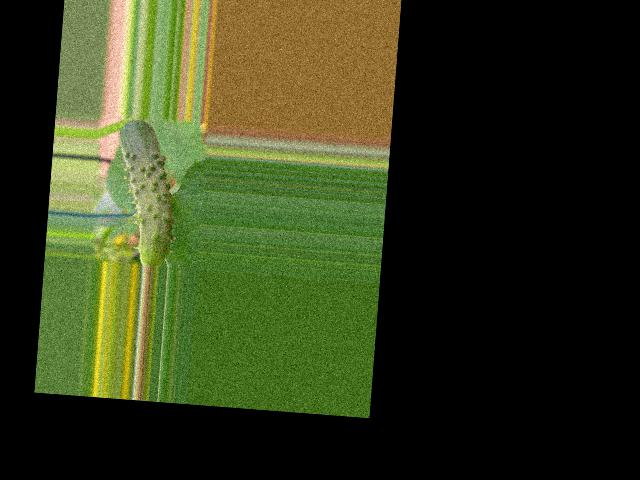cucumber: (110, 117, 182, 266)
